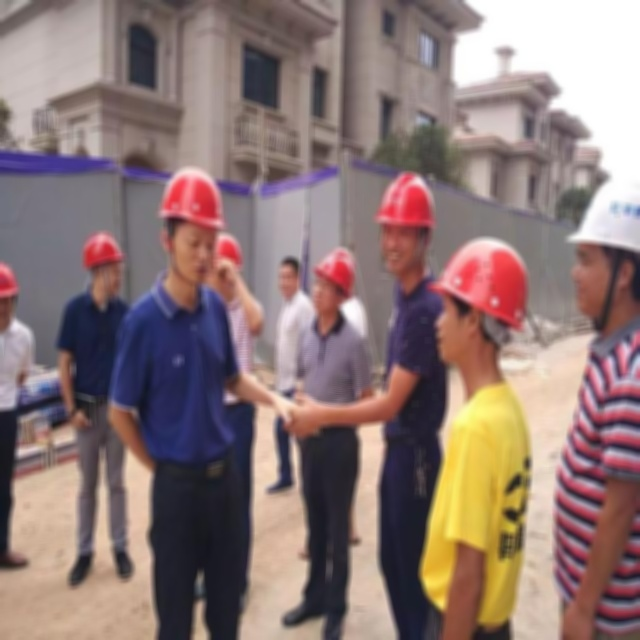Con_Casco: (426, 239, 527, 371), (159, 168, 225, 282)
Sin_Chaleco: (423, 387, 530, 637), (117, 282, 235, 467)
